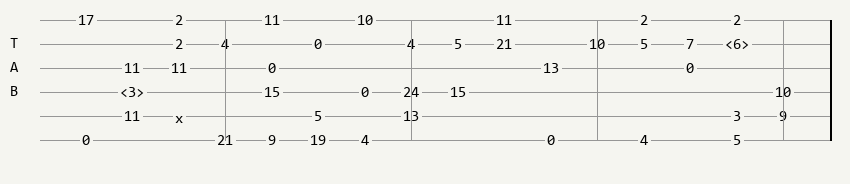0: (82, 133, 94, 147), (268, 61, 280, 75), (314, 37, 326, 51), (361, 85, 373, 99), (547, 133, 559, 147), (686, 61, 698, 75)
10: (357, 13, 377, 27), (589, 37, 609, 51), (775, 85, 795, 99)
11: (124, 109, 144, 123), (124, 61, 144, 75), (171, 61, 191, 75), (264, 13, 284, 27), (496, 13, 516, 27)
13: (403, 109, 423, 123), (543, 61, 563, 75)
15: (264, 85, 284, 99), (450, 85, 470, 99)
17: (78, 13, 98, 27)
19: (310, 133, 330, 147)
2: (175, 37, 187, 51), (175, 13, 187, 27), (640, 13, 652, 27), (733, 13, 745, 27)
21: (217, 133, 237, 147), (496, 37, 516, 51)
24: (403, 85, 423, 99)
3: (733, 109, 745, 123)
4: (221, 37, 233, 51), (361, 133, 373, 147), (407, 37, 419, 51), (640, 133, 652, 147)
5: (314, 109, 326, 123), (454, 37, 466, 51), (640, 37, 652, 51), (733, 133, 745, 147)
7: (686, 37, 698, 51)
9: (268, 133, 280, 147), (779, 109, 791, 123)
harmonic: (120, 85, 148, 99), (725, 37, 753, 51)
x: (175, 111, 187, 122)
